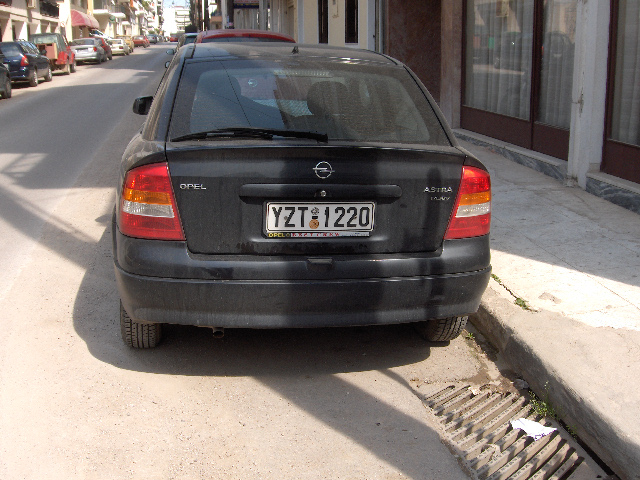licenseplate: (265, 201, 375, 232)
